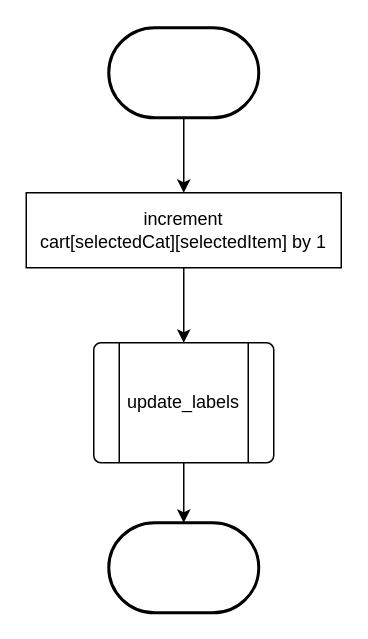
This 368x639 diagram has some shape labels left out. The centre of each missing label's shape, as x and y in pixels:
end: the point at 183,567
start: the point at 183,72
